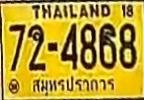2: (28, 24, 44, 70)
4: (60, 22, 77, 69)
6: (98, 22, 116, 68)
7: (8, 24, 25, 70)
8: (118, 22, 136, 68), (79, 23, 96, 68)
SPK: (30, 73, 122, 98)
